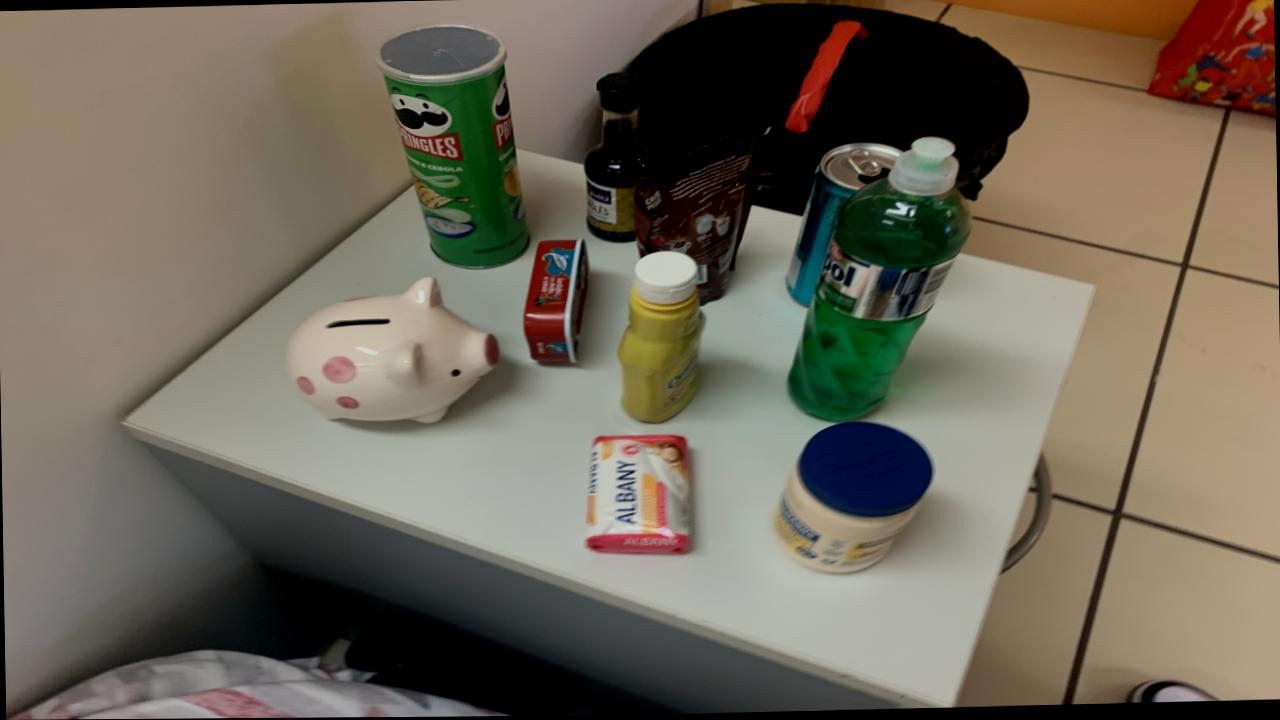Coffee-Pantry_Items: (635, 128, 769, 304)
Detergent-Cleanup_Items: (788, 139, 970, 423)
English_Sauce-Pantry_Items: (584, 73, 654, 244)
Mayonnaise-Pantry_Items: (773, 422, 932, 575)
Mustard-Pantry_Items: (617, 252, 705, 424)
Pig_Safe-Miscellaneous: (285, 279, 500, 425)
Pringles-Snacks: (377, 25, 528, 268)
Soap-Cleanup_Items: (585, 436, 691, 556)
Tea-Drinks: (786, 144, 902, 307)
Tuna_Can-Pantry_Items: (524, 240, 589, 364)
